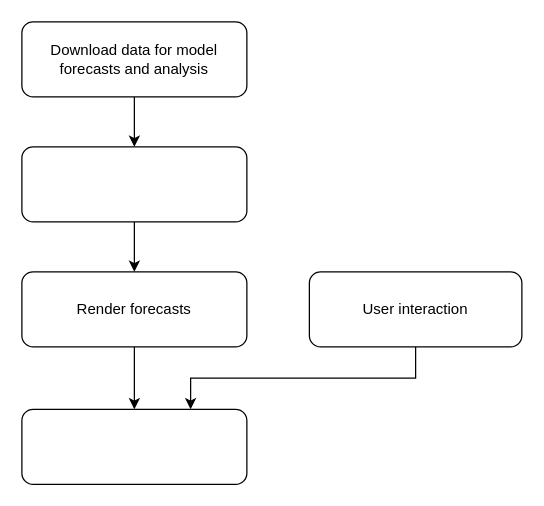
Image size: 544x506. Some labels were removed from this diagram. The box of each missing label's shape, as (x1, y1, x2, y2) in pixels:
Run AnEn and generate forecasts: (21, 146, 247, 222)
Visualization: (21, 408, 247, 484)
